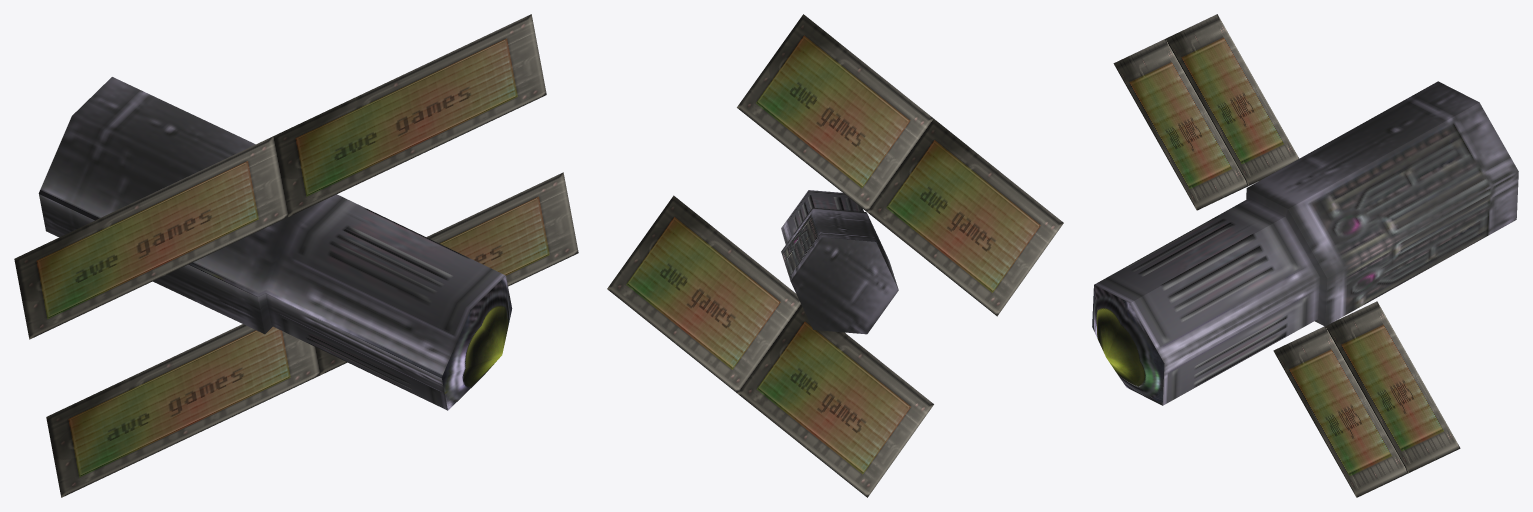
3 views of the same model, side by side, from view 1: azimuth 30°, elevation 25°; view 2: azimuth 150°, elevation 25°; view 3: azimuth 270°, elevation 25° (orthographic). The views are drawn at different scales.
Visible parts, largest first — view 1: Cylinder01; view 2: Cylinder01; view 3: Cylinder01.
Boxes of the visible parts, box(x1,y1,x2,y2) form: Cylinder01: box(14, 14, 578, 497); Cylinder01: box(607, 14, 1063, 497); Cylinder01: box(1092, 14, 1518, 497).
Bounding box in the file's own units: 2598 × 2137 × 1603.
1 material, 1 textured.
